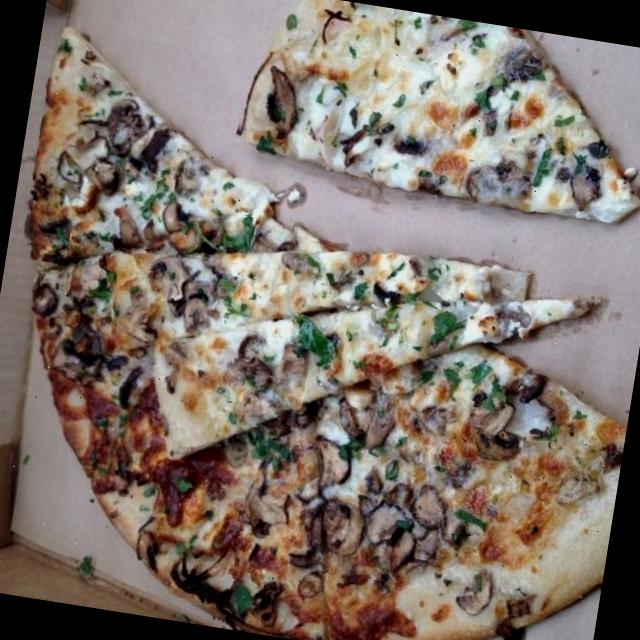basil: (280, 311, 348, 374), (439, 354, 517, 406), (240, 423, 300, 475), (468, 81, 508, 140), (424, 305, 469, 356), (214, 273, 258, 319), (530, 139, 566, 191), (449, 501, 498, 539), (224, 577, 264, 621), (141, 174, 176, 222), (369, 301, 404, 347), (450, 18, 490, 52), (548, 104, 582, 135), (90, 268, 118, 304), (230, 213, 256, 250), (44, 224, 72, 256), (347, 276, 375, 306), (298, 254, 328, 280), (361, 106, 388, 130), (74, 75, 98, 102), (386, 84, 408, 112), (282, 8, 302, 38), (110, 407, 132, 432), (94, 228, 120, 248), (404, 14, 427, 36), (61, 36, 79, 60), (330, 79, 350, 95)
mushrooms: (301, 446, 459, 589), (66, 92, 174, 194), (235, 429, 328, 542), (359, 380, 474, 458), (114, 193, 230, 260), (168, 252, 246, 349), (227, 328, 313, 411), (110, 266, 172, 364), (461, 383, 532, 467), (560, 133, 622, 212), (255, 63, 312, 139), (463, 158, 540, 209), (452, 564, 502, 626), (496, 35, 548, 90), (331, 403, 378, 447), (28, 277, 68, 323)
pizza: (35, 251, 625, 640), (240, 0, 640, 222), (30, 27, 302, 264)
